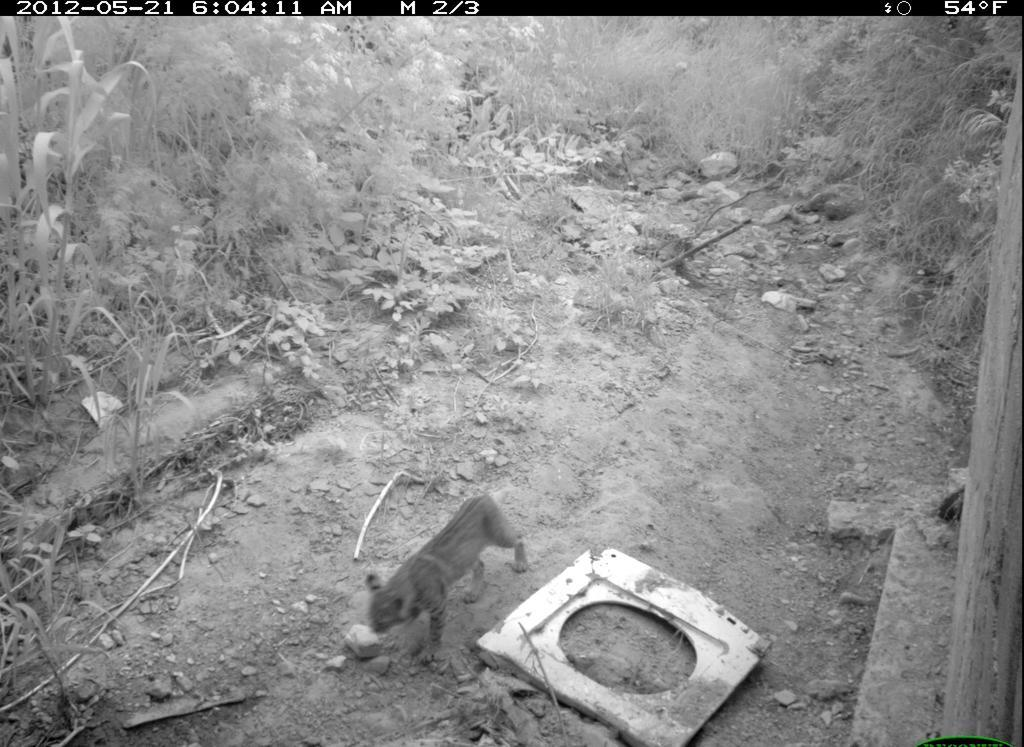bobcat: (360, 492, 530, 669)
